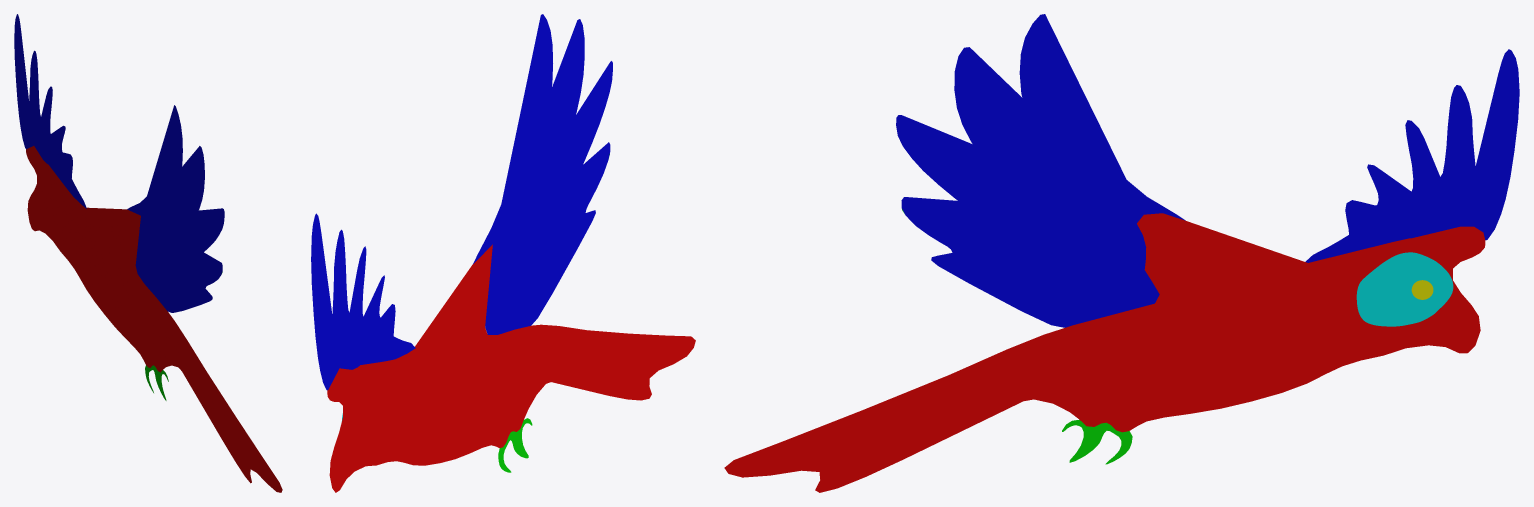
The model's file is Bird.fbx.
The picture shows the model from 3 angles, left to right: view 1: azimuth 30°, elevation 25°; view 2: azimuth 150°, elevation 25°; view 3: azimuth 270°, elevation 25°; orthographic projection. The views are drawn at different scales.
Visible parts, largest first — view 1: Bird; view 2: Bird; view 3: Bird.
Boxes of the visible parts, x1,y1,x2,y2 form: Bird: [14, 14, 282, 492]; Bird: [311, 14, 695, 492]; Bird: [724, 14, 1519, 492].
Bounding box in the file's own units: 0.6439 × 120 × 181.
